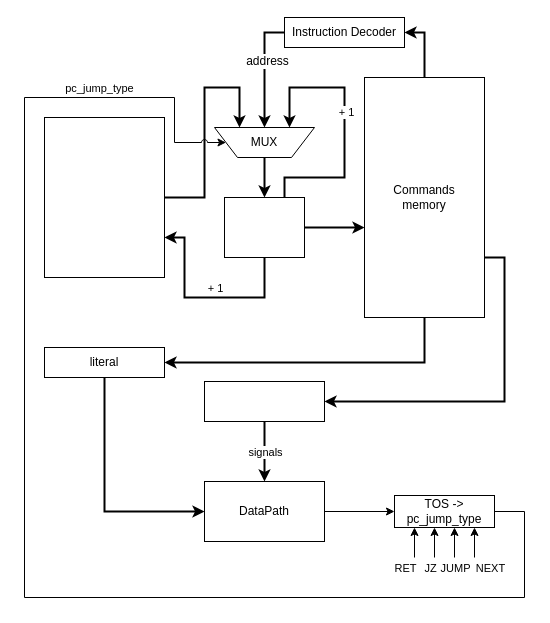
The diagram is 550 pixels wide and 623 high, and some of its shapes have lost their labels. The centre of each missing label's shape, as x and y in pixels:
decoder: [264,401]
Programm counter: [264,227]
Return stack: [104,197]
